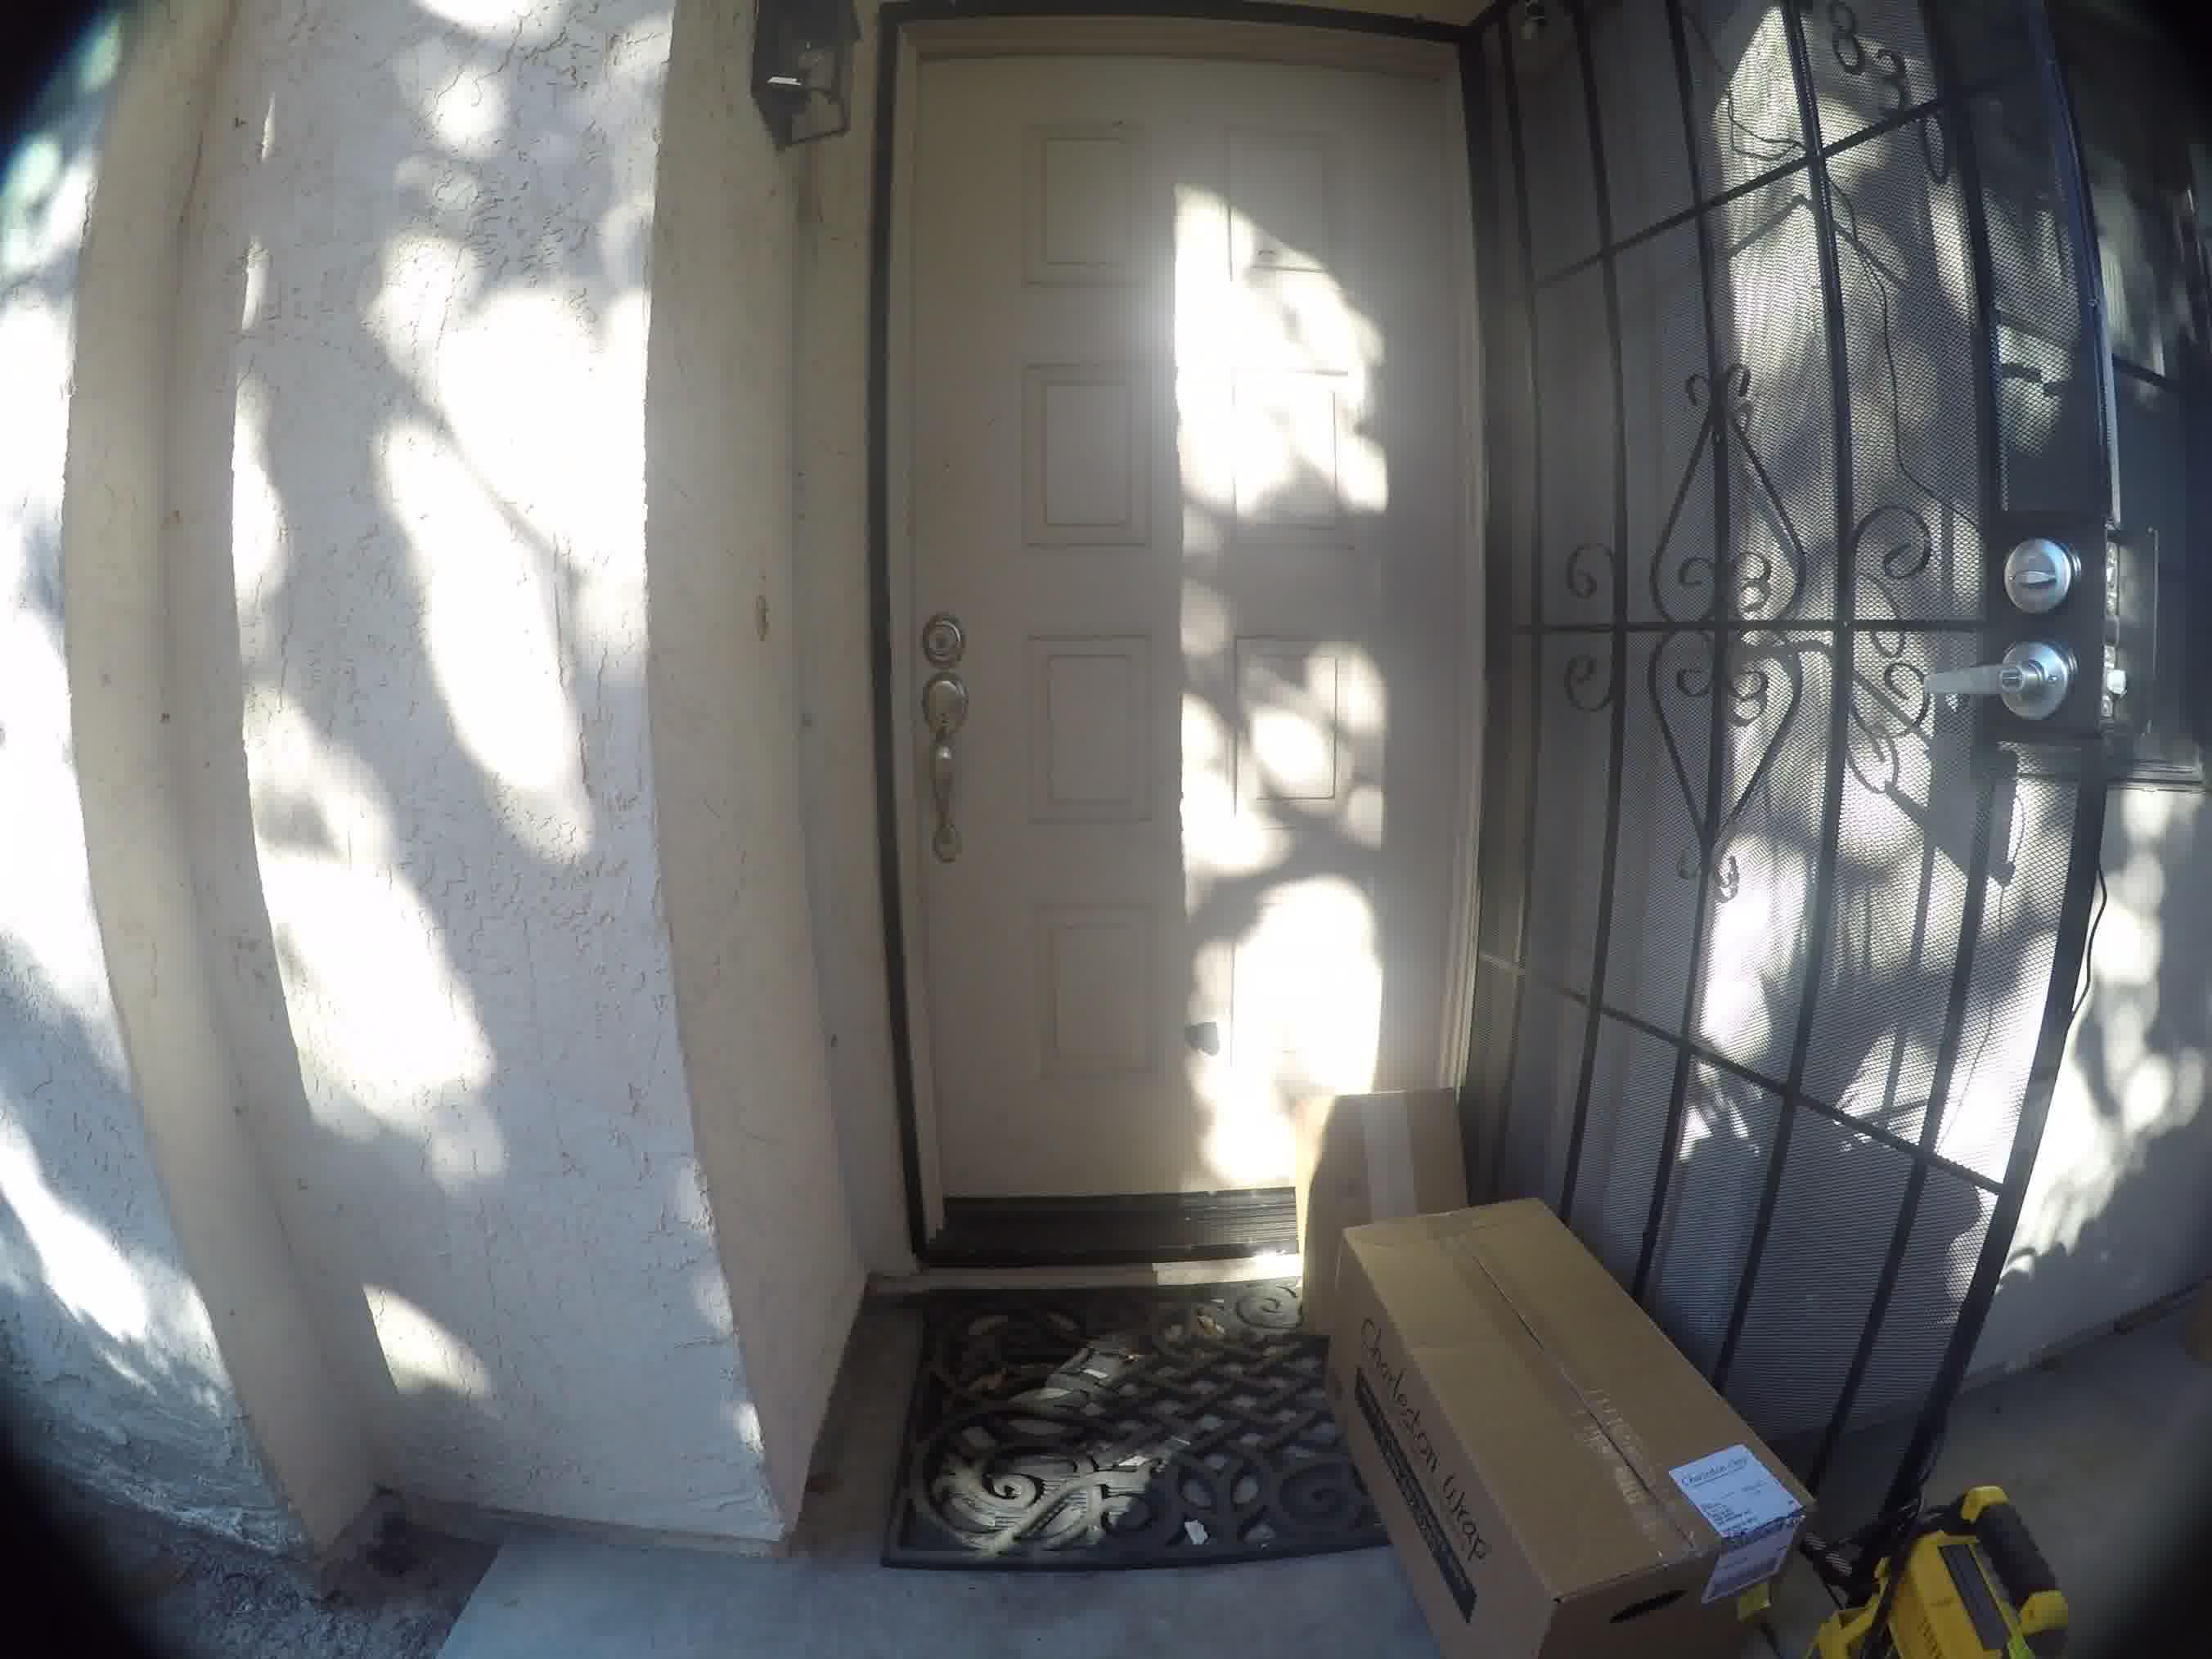box: (1287, 1201, 1804, 1607), (1298, 1053, 1489, 1178)
